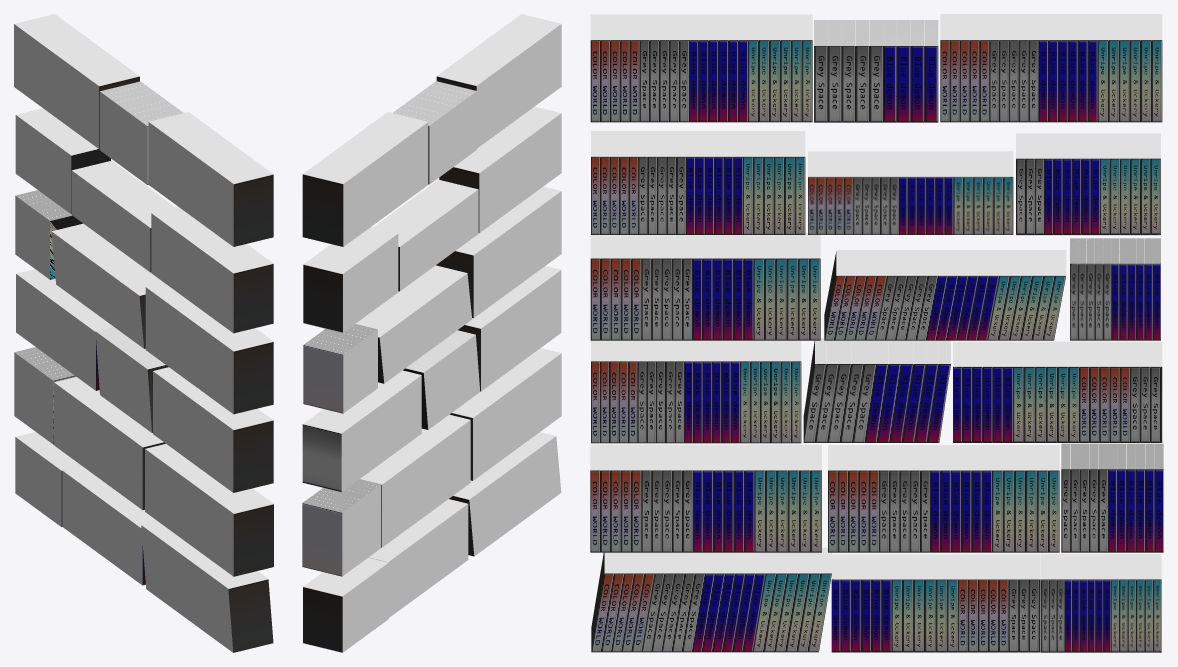
The model's file is aws_BookA_01_visual.DAE.
The picture shows the model from 3 angles, left to right: view 1: azimuth 30°, elevation 25°; view 2: azimuth 150°, elevation 25°; view 3: azimuth 270°, elevation 25°; orthographic projection. The views are drawn at different scales.
Parts seen in each view (by area): view 1: aws_BookA_01_visual; view 2: aws_BookA_01_visual; view 3: aws_BookA_01_visual.
Part boxes in pixels (box(x1,y1,x2,y2)): aws_BookA_01_visual: box(14, 14, 273, 652); aws_BookA_01_visual: box(302, 14, 561, 652); aws_BookA_01_visual: box(590, 14, 1163, 652).
Size of the model in its own units: 14.94 by 139 by 164.
Materials: 1 (1 with a texture image).
